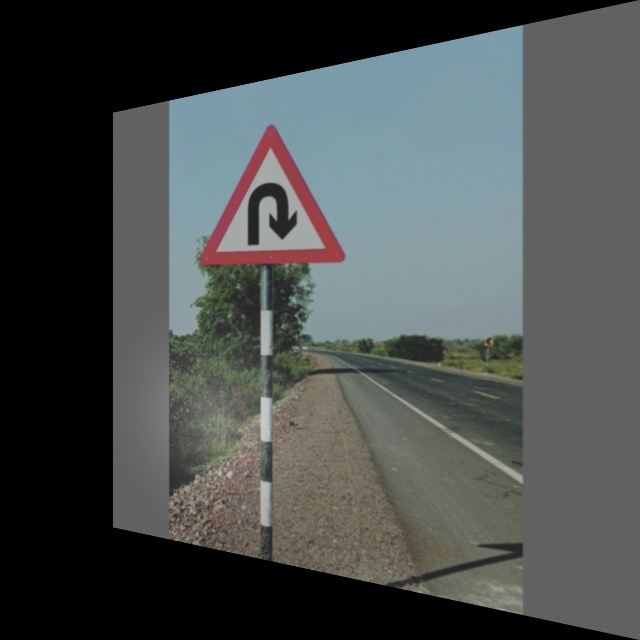Right_Hair_Pin_Bend: (208, 111, 343, 267)
